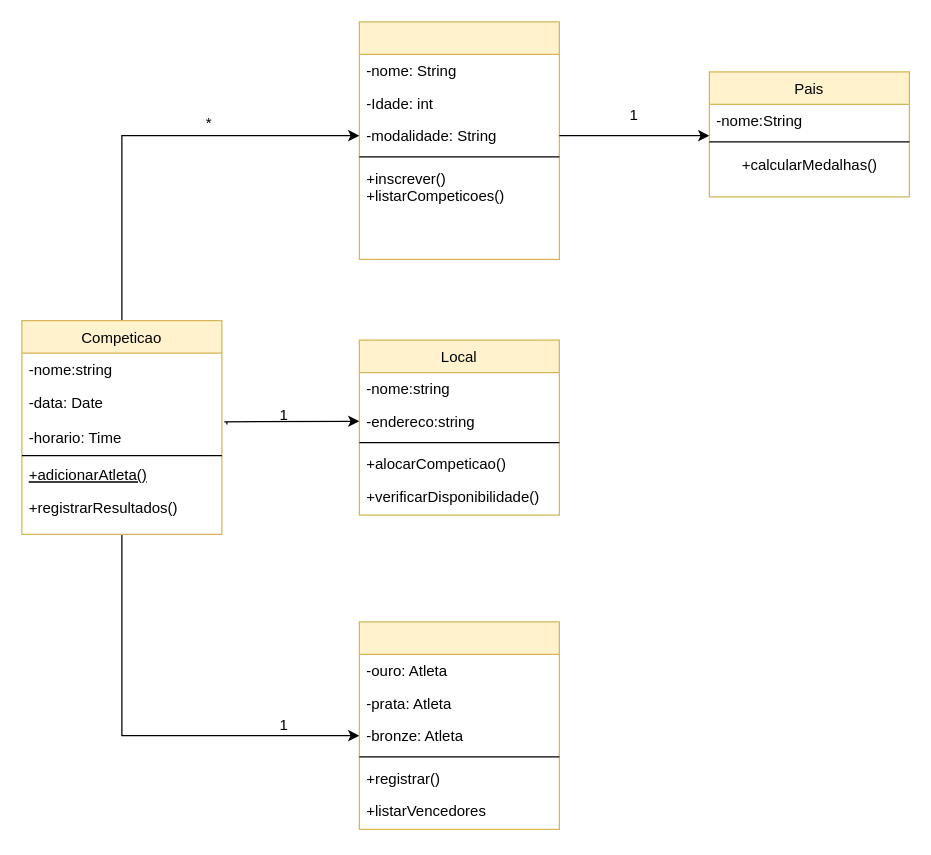
The diagram is 931 pixels wide and 855 high, and some of its shapes have lost their labels. Each missing label, with the box of its shape:
Atleta: (358, 21, 559, 259)
Resultado: (358, 621, 559, 829)
